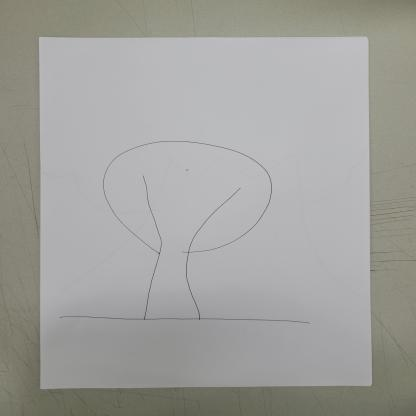crown_mushroom: (104, 136, 277, 250)
root_none: (130, 308, 217, 334)
trunk_reflex: (144, 252, 198, 309)
